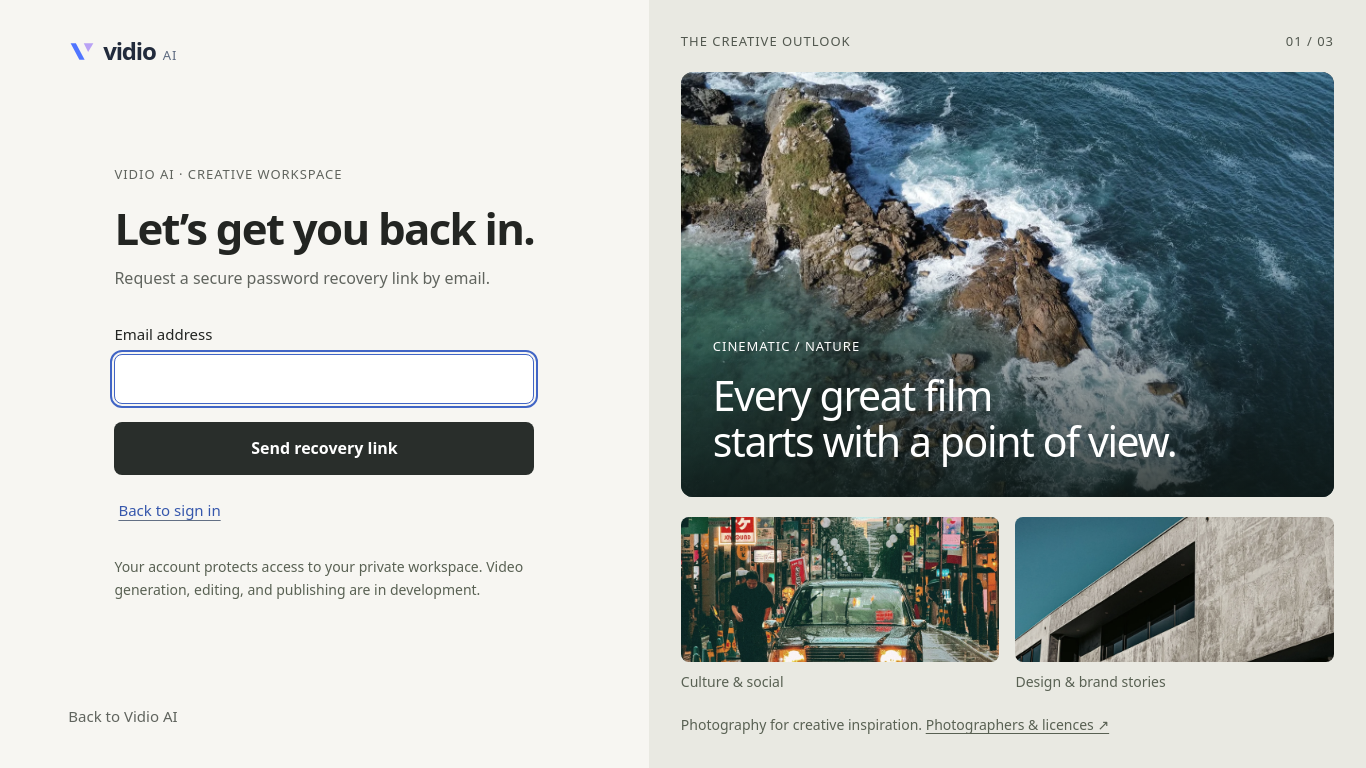
Supabase authentication flows › requests recovery without revealing whether an account exists
Type "reader@example.test" into the field labelled "Email address" at (324, 379), box top-left (114, 354), bottom-right (534, 404)
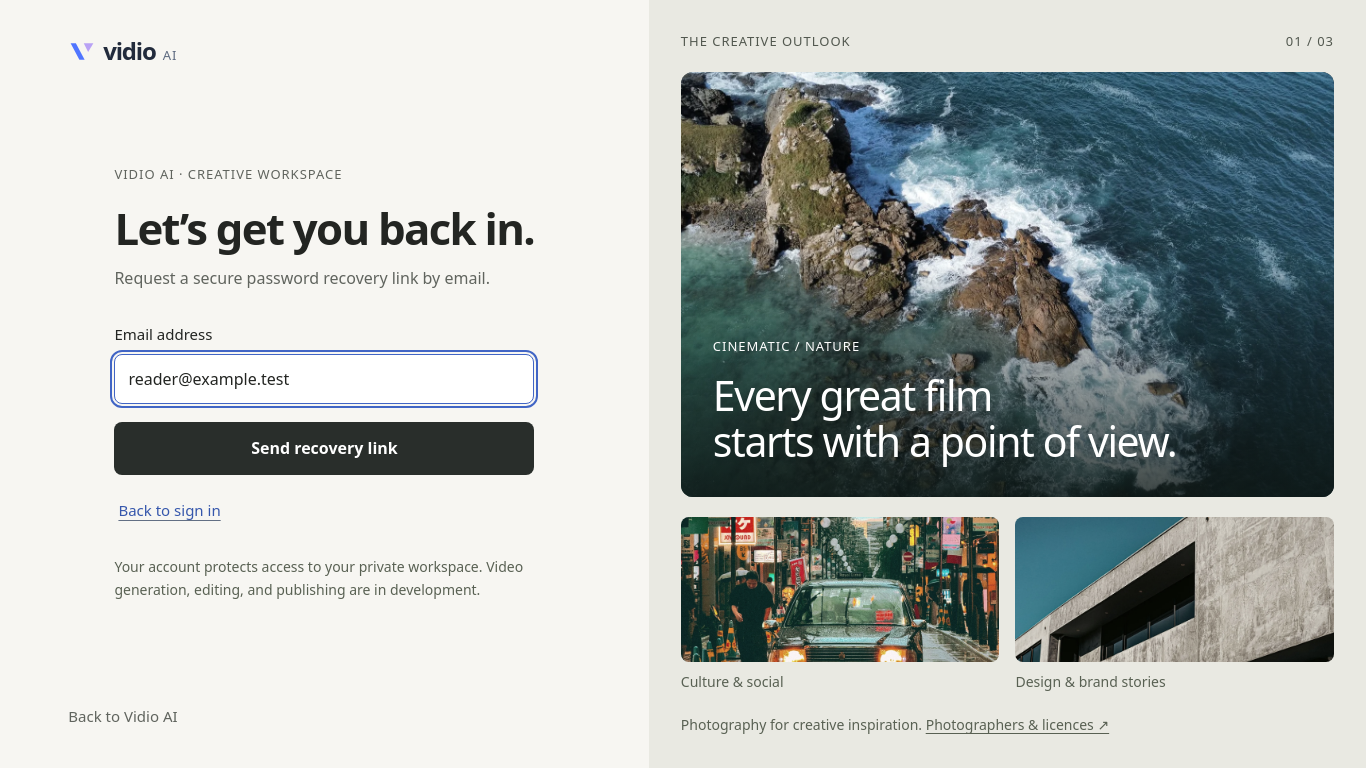
Click the button "Send recovery link" at (324, 448), box top-left (114, 422), bottom-right (534, 475)
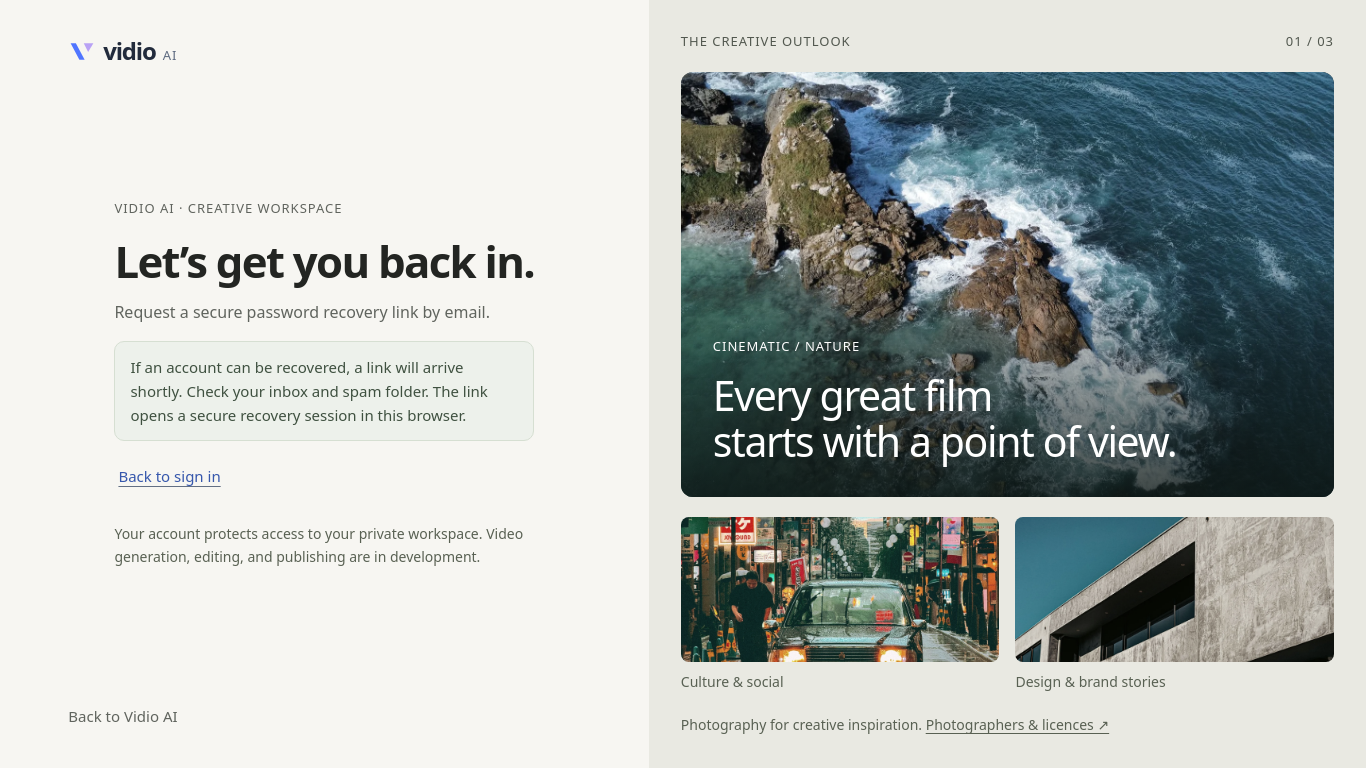
Check: the message shows "If an account can be recovered", box top-left (130, 357), bottom-right (488, 425)
